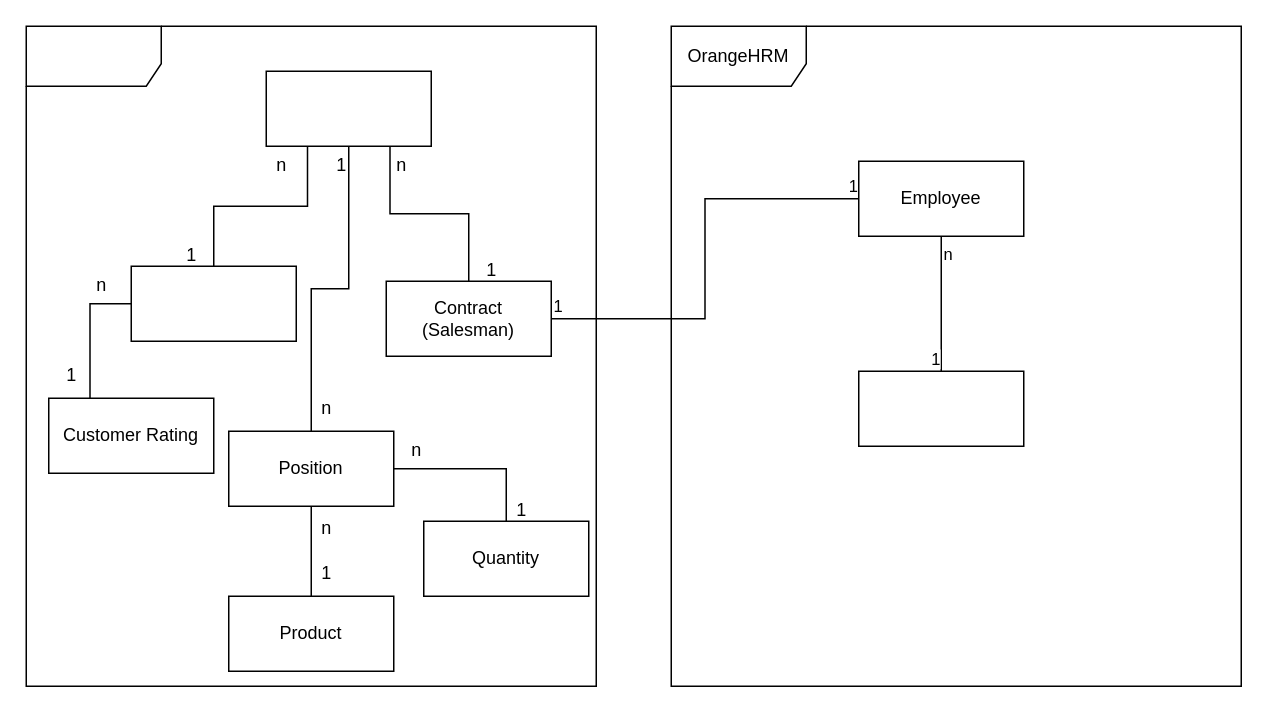
The diagram is 1268 pixels wide and 713 high, and some of its shapes have lost their labels. Here are the shapes that lost their labels. From the top down, the box of each, then its label:
(265, 70, 431, 146): SalesOrder
(130, 265, 296, 341): Customer
(25, 25, 596, 686): OpenCRX
(857, 370, 1024, 446): Department
